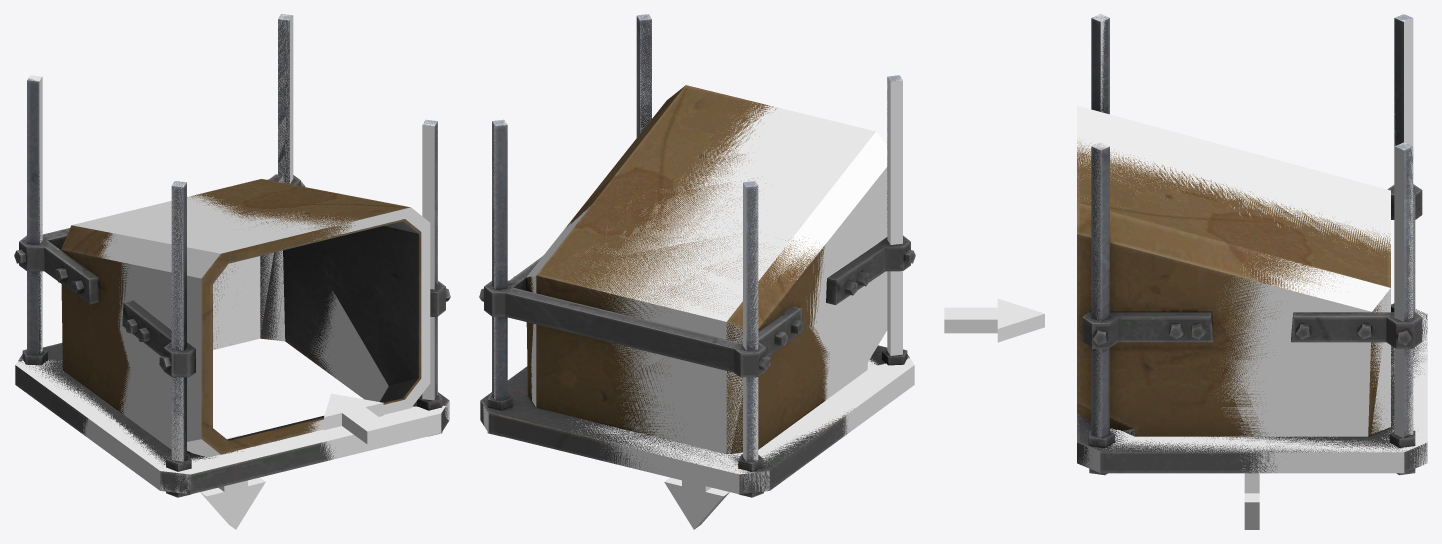
File: Chute_Top_Angle.glb
3 views of the same model, side by side, from view 1: azimuth 30°, elevation 25°; view 2: azimuth 150°, elevation 25°; view 3: azimuth 270°, elevation 25° (orthographic). The views are drawn at different scales.
Visible parts, largest first — view 1: Chute_Top_Angle, Chute_Top_Angle_Col, ghostarrow, ghostarrow (1); view 2: Chute_Top_Angle, Chute_Top_Angle_Col, ghostarrow (1); view 3: Chute_Top_Angle, Chute_Top_Angle_Col, ghostarrow, ghostarrow (1).
Part boxes in pixels (x1,y1,x2,y2): Chute_Top_Angle: [14, 14, 450, 497]; Chute_Top_Angle_Col: [15, 14, 449, 493]; ghostarrow: [324, 393, 390, 444]; ghostarrow (1): [200, 435, 265, 529]; Chute_Top_Angle: [479, 14, 915, 497]; Chute_Top_Angle_Col: [483, 14, 914, 494]; ghostarrow (1): [664, 477, 729, 529]; Chute_Top_Angle: [1077, 14, 1427, 475]; Chute_Top_Angle_Col: [1077, 14, 1427, 473]; ghostarrow: [944, 298, 1044, 342]; ghostarrow (1): [1244, 473, 1259, 529].
Size of the model in its own units: 1 by 1.41 by 1.38.
Materials: 3 (1 with a texture image).
